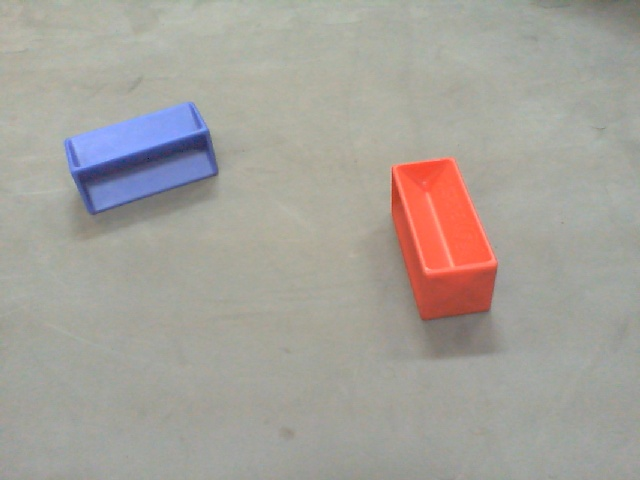BlueSample: (61, 99, 222, 220)
RedSample: (385, 156, 505, 328)
